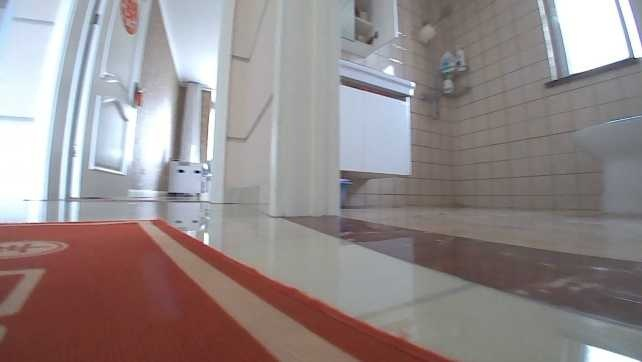blanket: (0, 216, 450, 360)
door_anno: (36, 0, 155, 198)
toilet: (567, 112, 641, 217)
